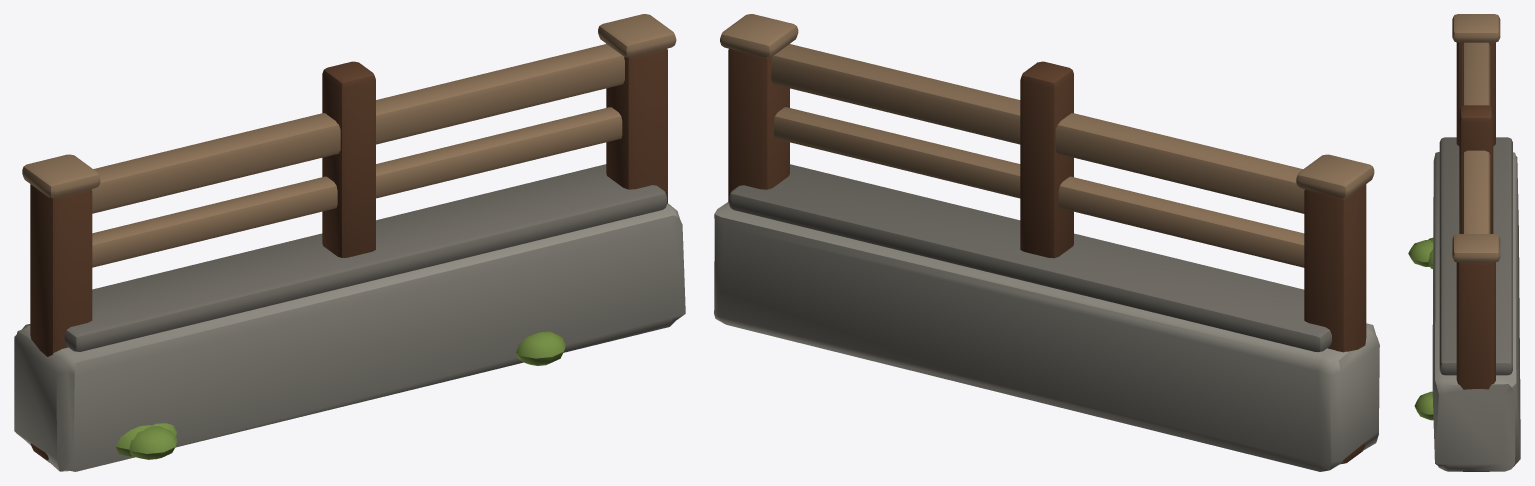
File: low_wall.glb
3 renders of one model, left to right at view 1: azimuth 30°, elevation 25°; view 2: azimuth 150°, elevation 25°; view 3: azimuth 270°, elevation 25°, orthographic. The views are drawn at different scales.
Parts seen in each view (by area): view 1: low_wall; view 2: low_wall; view 3: low_wall.
Boxes of the visible parts, x1=… form: low_wall: x1=14, y1=14, x2=685, y2=471; low_wall: x1=714, y1=14, x2=1379, y2=471; low_wall: x1=1408, y1=14, x2=1520, y2=471.
Size of what is drawn, in the model's own units: 2.01 by 0.9653 by 0.3981.
